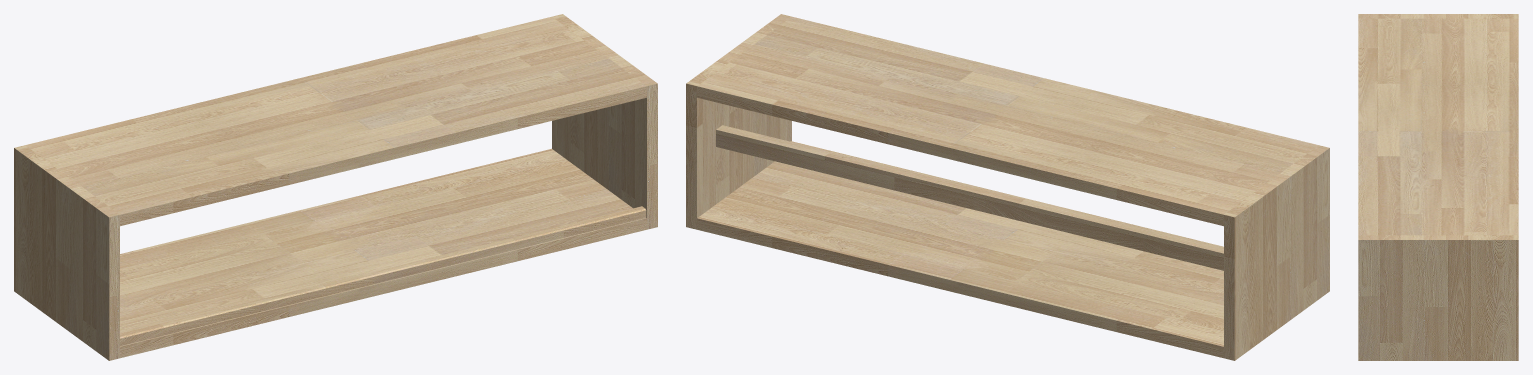
3 views of the same model, side by side, from view 1: azimuth 30°, elevation 25°; view 2: azimuth 150°, elevation 25°; view 3: azimuth 270°, elevation 25° (orthographic). The views are drawn at different scales.
Parts seen in each view (by area): view 1: Lamel.169; view 2: Lamel.169; view 3: Lamel.169.
Part boxes in pixels (box(x1,y1,x2,y2)): Lamel.169: box(14, 14, 657, 360); Lamel.169: box(686, 14, 1329, 360); Lamel.169: box(1358, 14, 1518, 360).
Bounding box in the file's own units: 1 × 0.25 × 0.3.
Materials: 1 (1 with a texture image).
